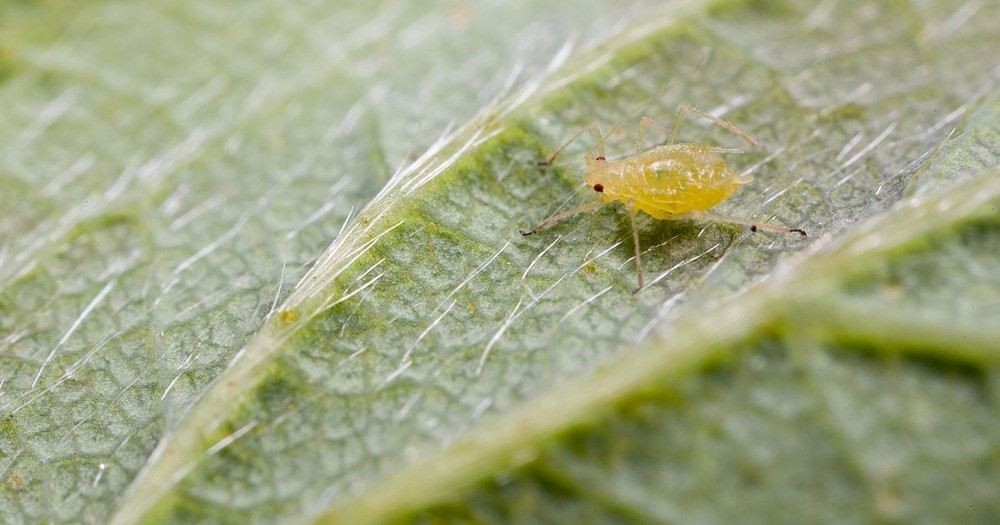Pulgon: (526, 100, 817, 279)
